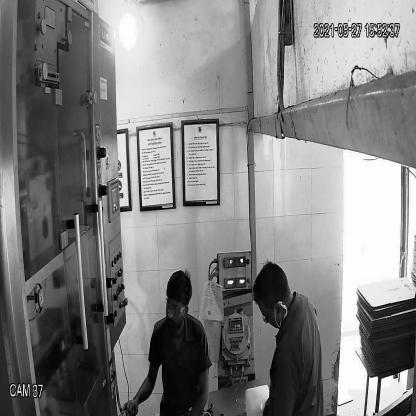goggles: (163, 297, 191, 320)
